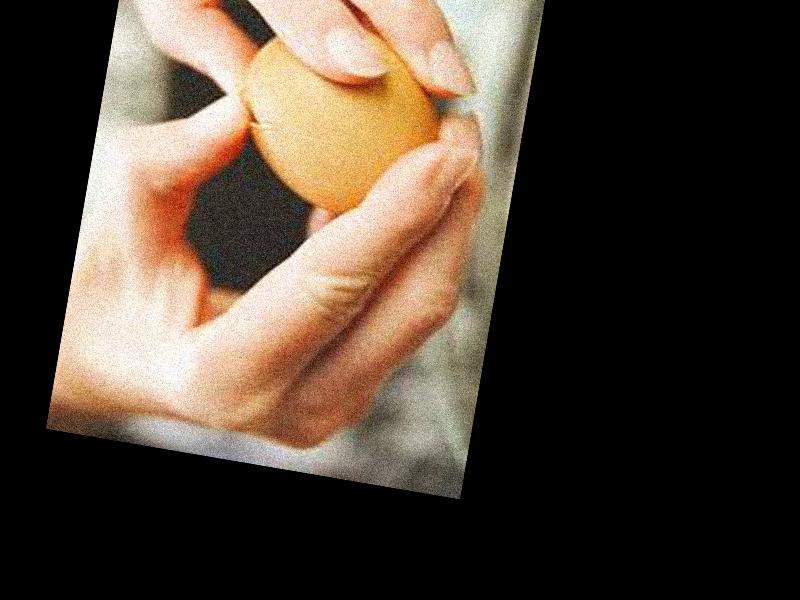Eggs: (223, 9, 456, 227)
